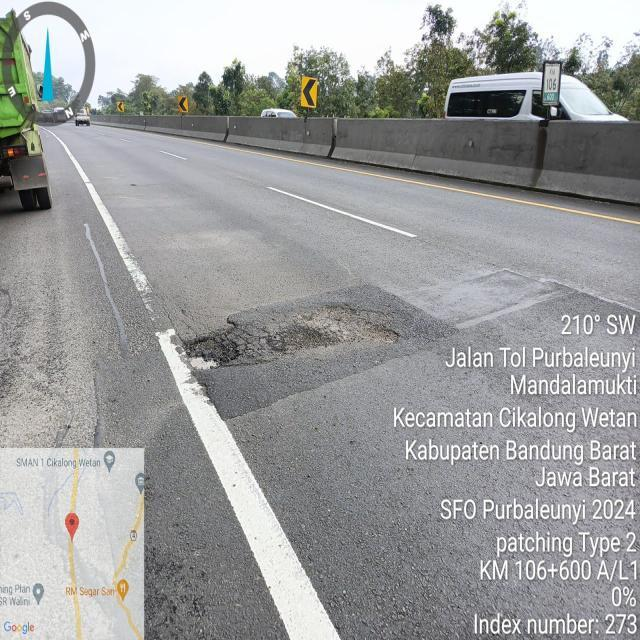Buraco: (252, 301, 404, 366), (179, 328, 246, 374)
